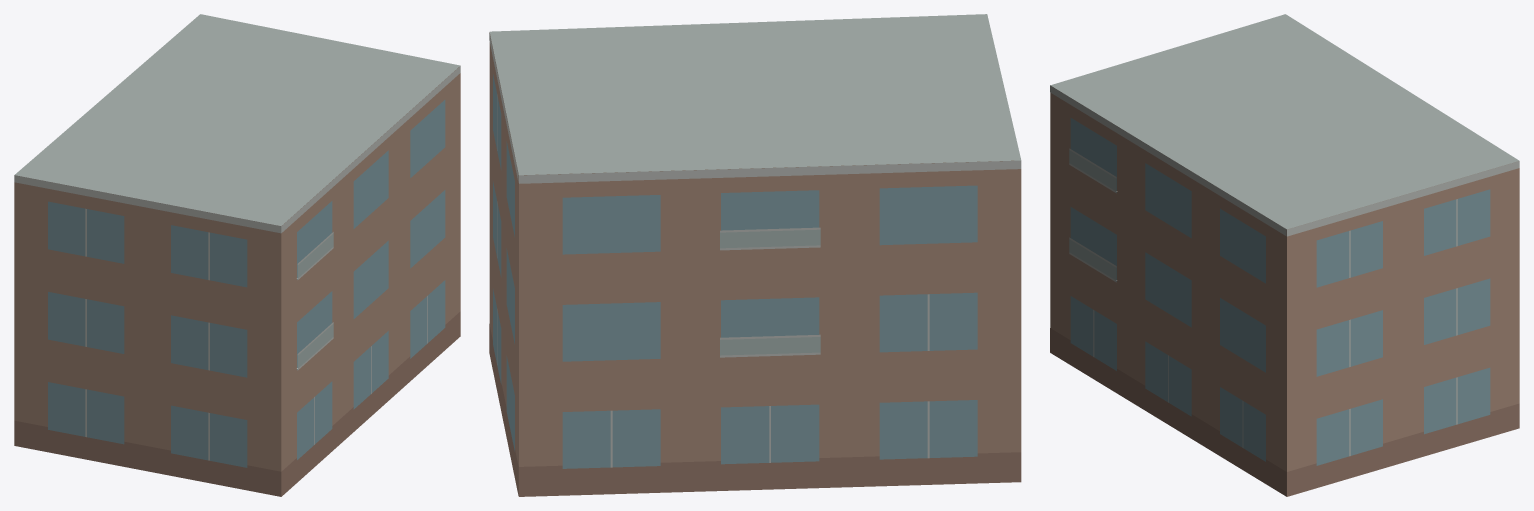
File: survey-upis-32827814.glb
The picture shows the model from 3 angles, left to right: view 1: azimuth 30°, elevation 25°; view 2: azimuth 150°, elevation 25°; view 3: azimuth 270°, elevation 25°; orthographic projection. The views are drawn at different scales.
Visible parts, largest first — view 1: survey-upis-32827814.tmp; view 2: survey-upis-32827814.tmp; view 3: survey-upis-32827814.tmp.
Boxes of the visible parts, box(x1,y1,x2,y2) form: survey-upis-32827814.tmp: box(14, 14, 460, 496); survey-upis-32827814.tmp: box(489, 14, 1021, 496); survey-upis-32827814.tmp: box(1050, 14, 1519, 496).
Size of the model in its own units: 15.82 by 9.15 by 14.57.
